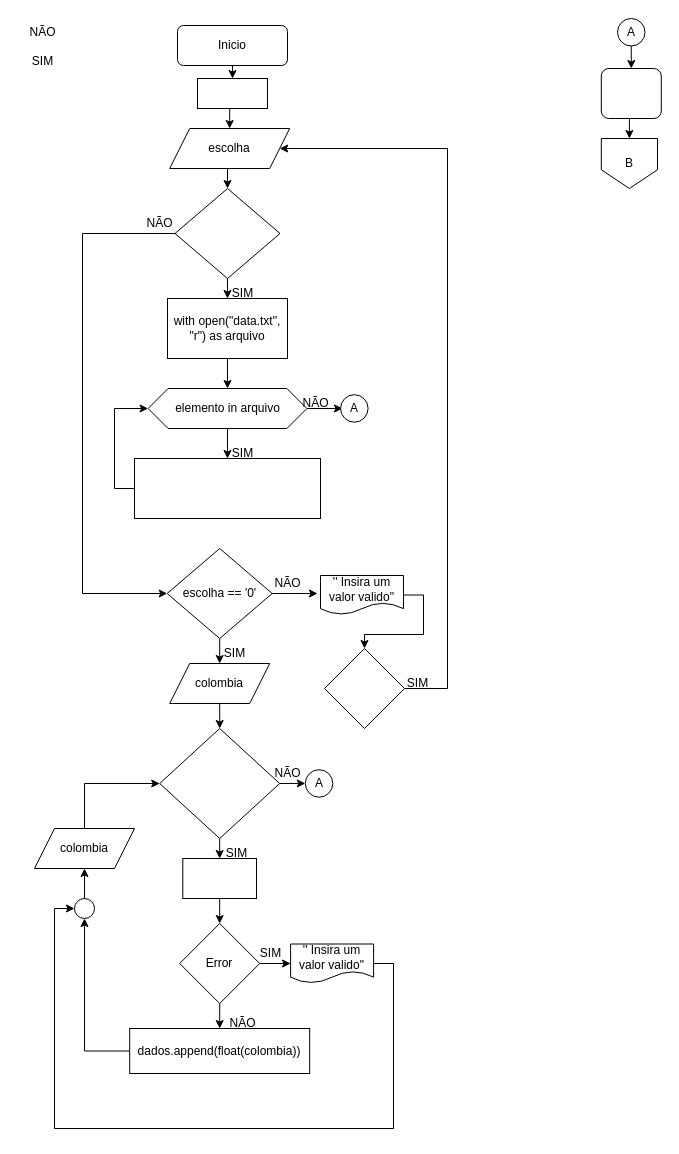
The diagram is 679 pixels wide and 1154 high, and some of its shapes have lost their labels. The centre of each missing label's shape, as x and y in pixels:
break: (x=630, y=93)
colombia != 'fim': (x=219, y=783)
dados = []: (x=232, y=93)
elemento = float(elemento.lstrip()) dados.append(elemento): (x=227, y=488)
escolha == '1': (x=227, y=233)
True: (x=364, y=688)
try: (x=219, y=878)
